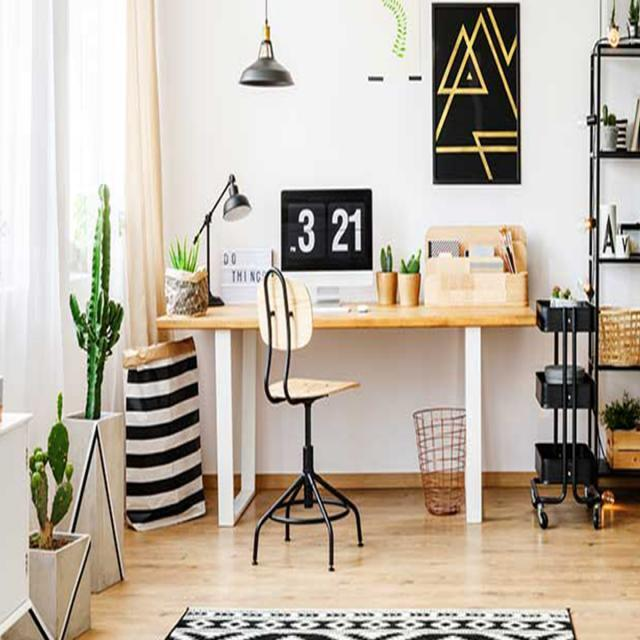table: (160, 262, 548, 422)
